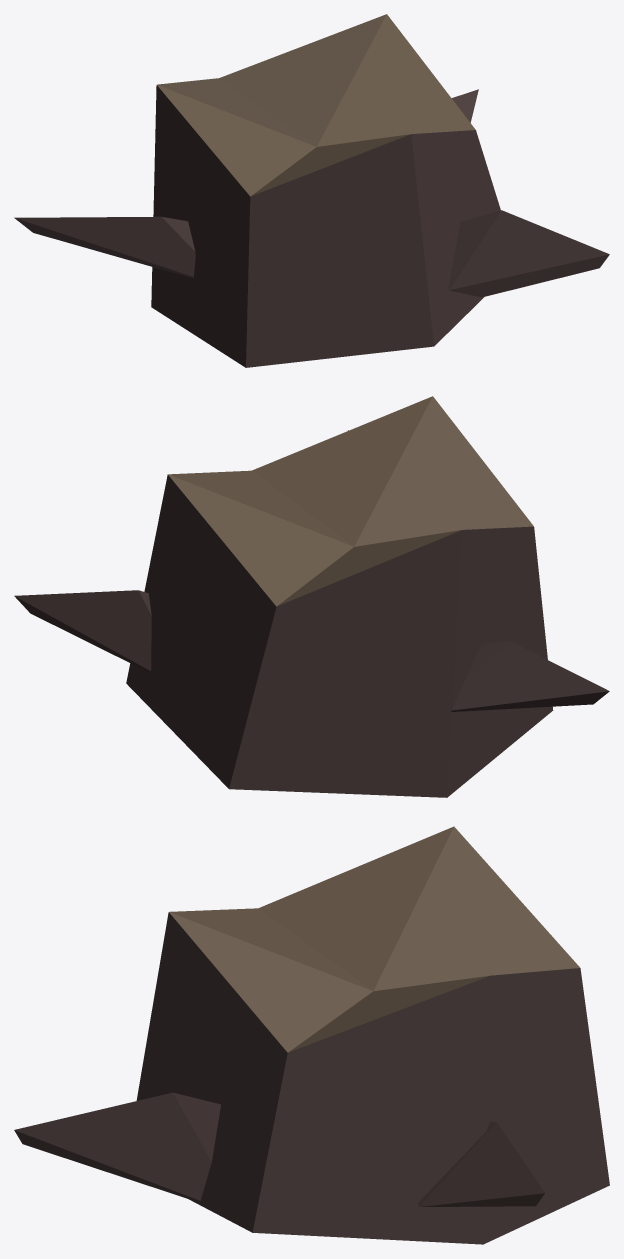
The model's file is toco_1.glb.
3 views of the same model, one above another, from view 1: azimuth 30°, elevation 25°; view 2: azimuth 150°, elevation 25°; view 3: azimuth 270°, elevation 25° (orthographic). The views are drawn at different scales.
Parts seen in each view (by area): view 1: toco_1; view 2: toco_1; view 3: toco_1.
Part boxes in pixels (x1,y1,x2,y2): toco_1: (14,14,609,367); toco_1: (14,396,609,797); toco_1: (14,826,609,1244).
Size of the model in its own units: 0.4451 by 0.1979 by 0.3719.
